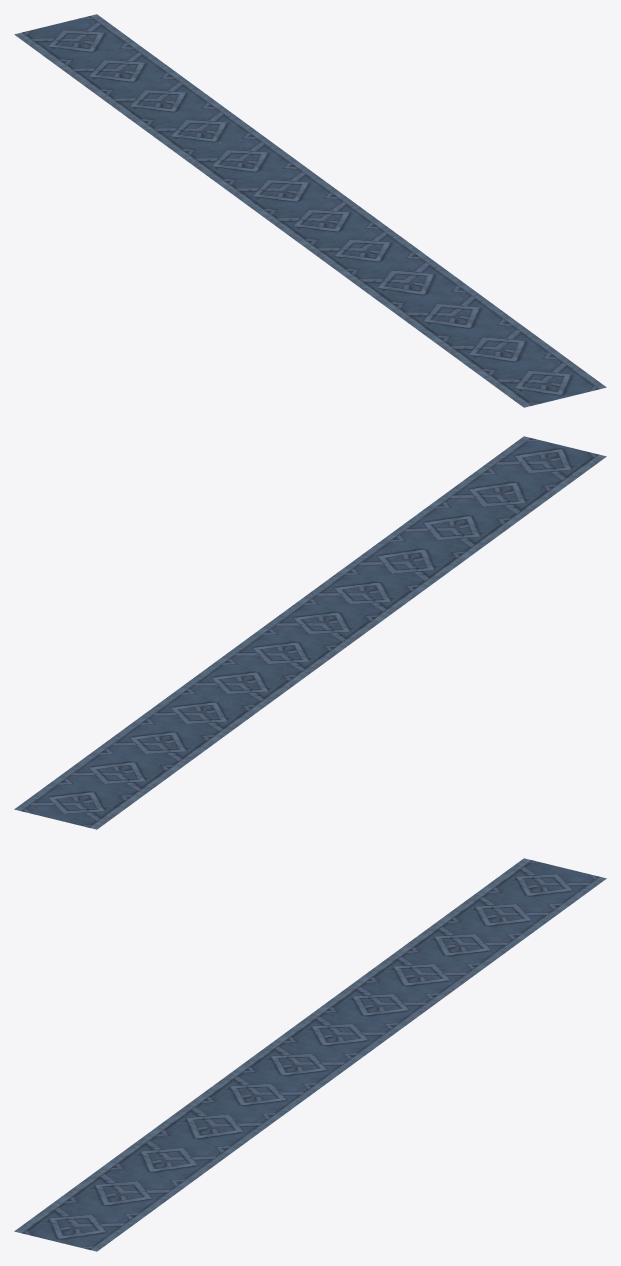
The model's file is Area_11_7.fbx.
3 renders of one model, top to bottom at view 1: azimuth 30°, elevation 25°; view 2: azimuth 150°, elevation 25°; view 3: azimuth 330°, elevation 25°, orthographic.
Parts seen in each view (by area): view 1: Area_11_7; view 2: Area_11_7; view 3: Area_11_7.
Part boxes in pixels (box(x1,y1,x2,y2)): Area_11_7: box(14, 14, 606, 407); Area_11_7: box(14, 436, 606, 829); Area_11_7: box(14, 858, 606, 1251).
Size of the model in its own units: 608 by 0.00116 by 6468.
1 material, 1 textured.
